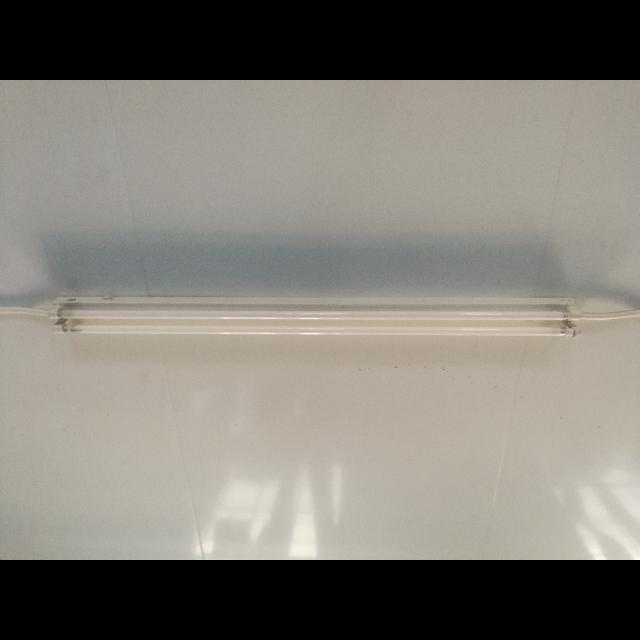Straight-Tube-Fluorescent-Lamp: (42, 282, 592, 376)
